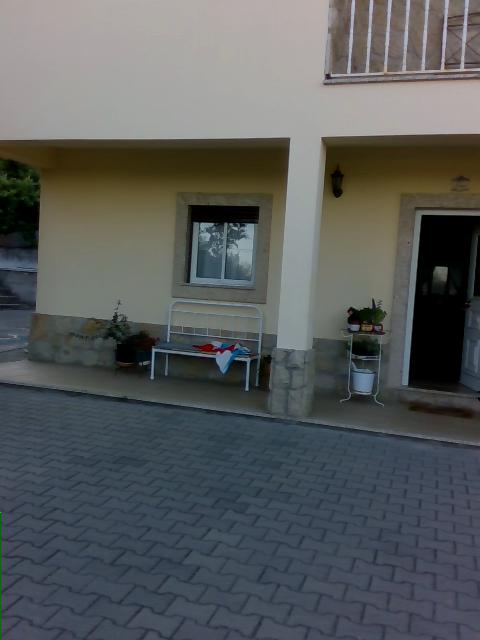open_door: (401, 205, 479, 392)
